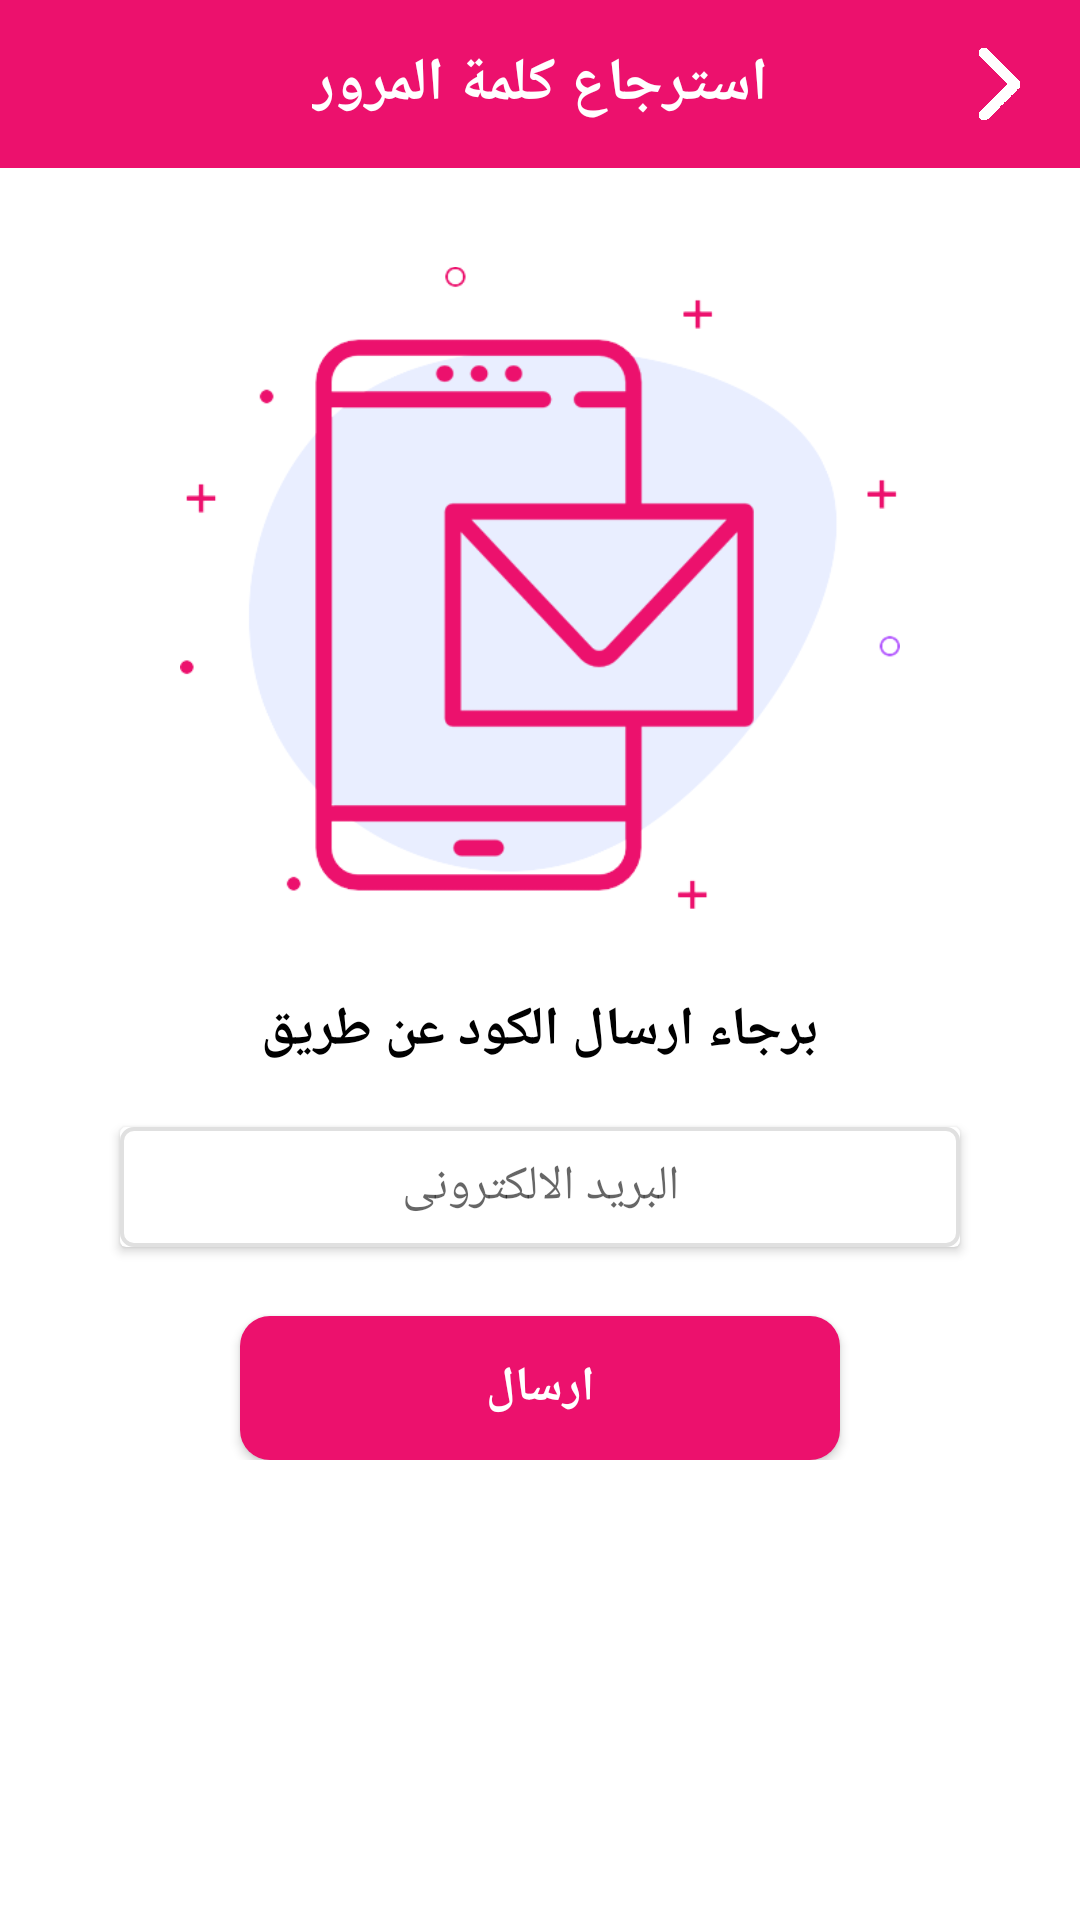

Icons on this 1080px x 1920px Android screen, each with its box as Rect(x1, y1, x2, y2):
arwo: Rect(979, 48, 1020, 120)
